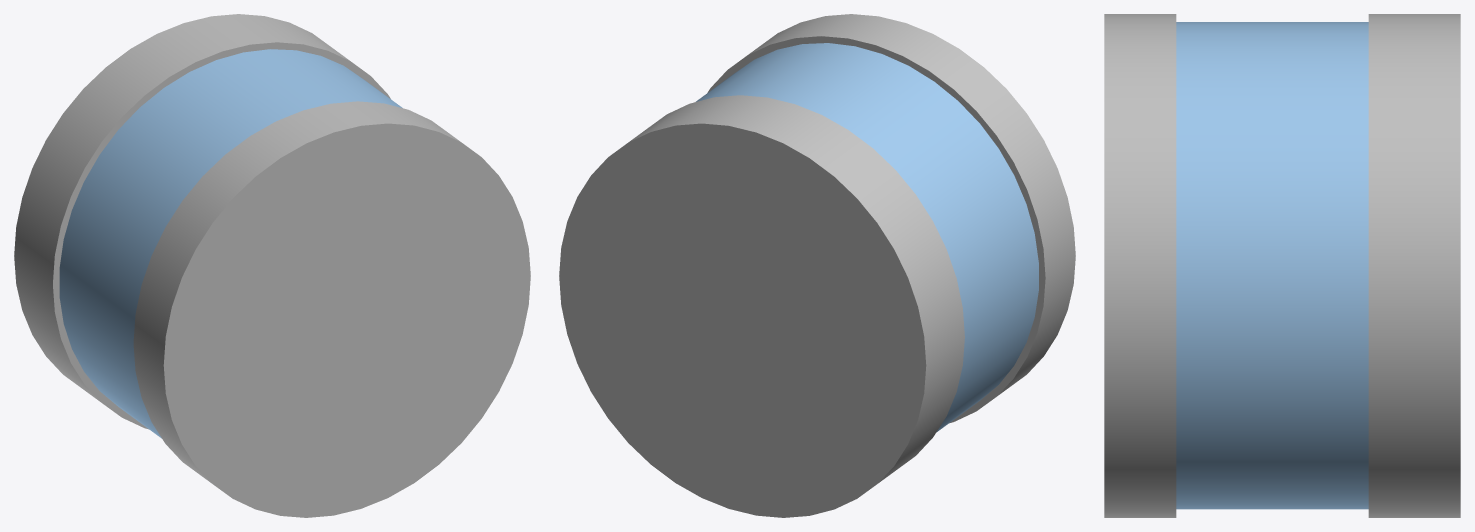
File: velodyne_lidar.dae
The picture shows the model from 3 angles, left to right: view 1: azimuth 30°, elevation 25°; view 2: azimuth 150°, elevation 25°; view 3: azimuth 270°, elevation 25°; orthographic projection. The views are drawn at different scales.
Parts seen in each view (by area): view 1: velodyne lidar; view 2: velodyne lidar; view 3: velodyne lidar.
Part boxes in pixels (<box>): velodyne lidar: <box>14,14,530,517</box>; velodyne lidar: <box>559,14,1075,517</box>; velodyne lidar: <box>1104,14,1460,517</box>.
Bounding box in the file's own units: 10.3 × 7.27 × 10.27.
